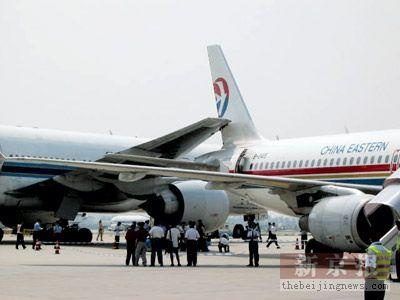airplane: (1, 46, 400, 234)
